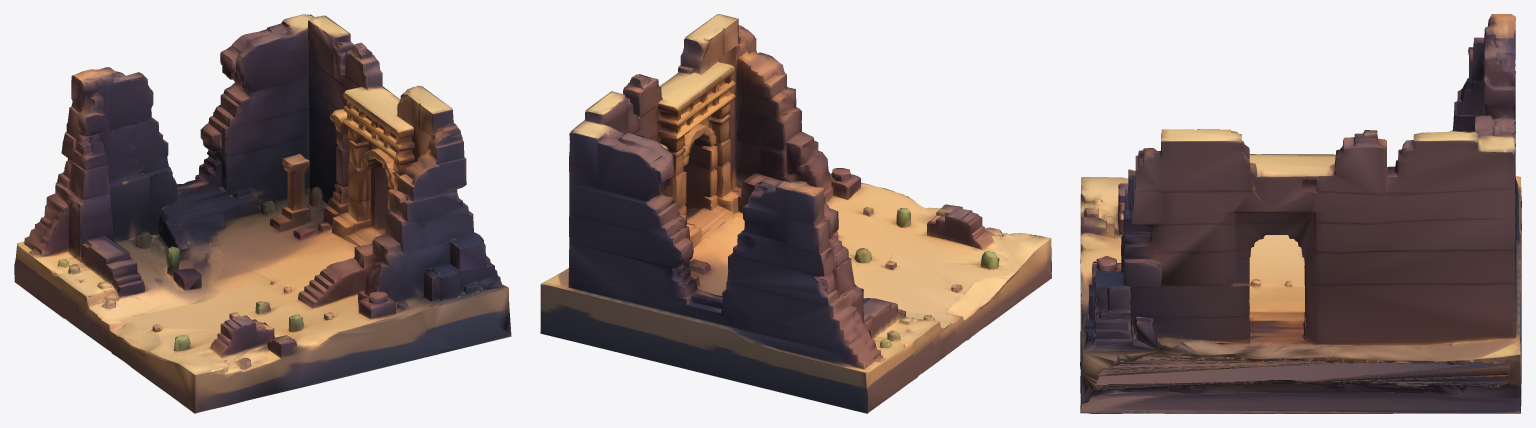
File: desert_relic_with_gate_2.glb
The picture shows the model from 3 angles, left to right: view 1: azimuth 30°, elevation 25°; view 2: azimuth 150°, elevation 25°; view 3: azimuth 270°, elevation 25°; orthographic projection. The views are drawn at different scales.
Visible parts, largest first — view 1: node_0; view 2: node_0; view 3: node_0.
Part boxes in pixels (box(x1,y1,x2,y2)): node_0: box(14, 14, 511, 413); node_0: box(540, 14, 1051, 413); node_0: box(1080, 14, 1521, 413).
Bounding box in the file's own units: 0.7828 × 0.5014 × 0.7661.
1 material, 1 textured.
